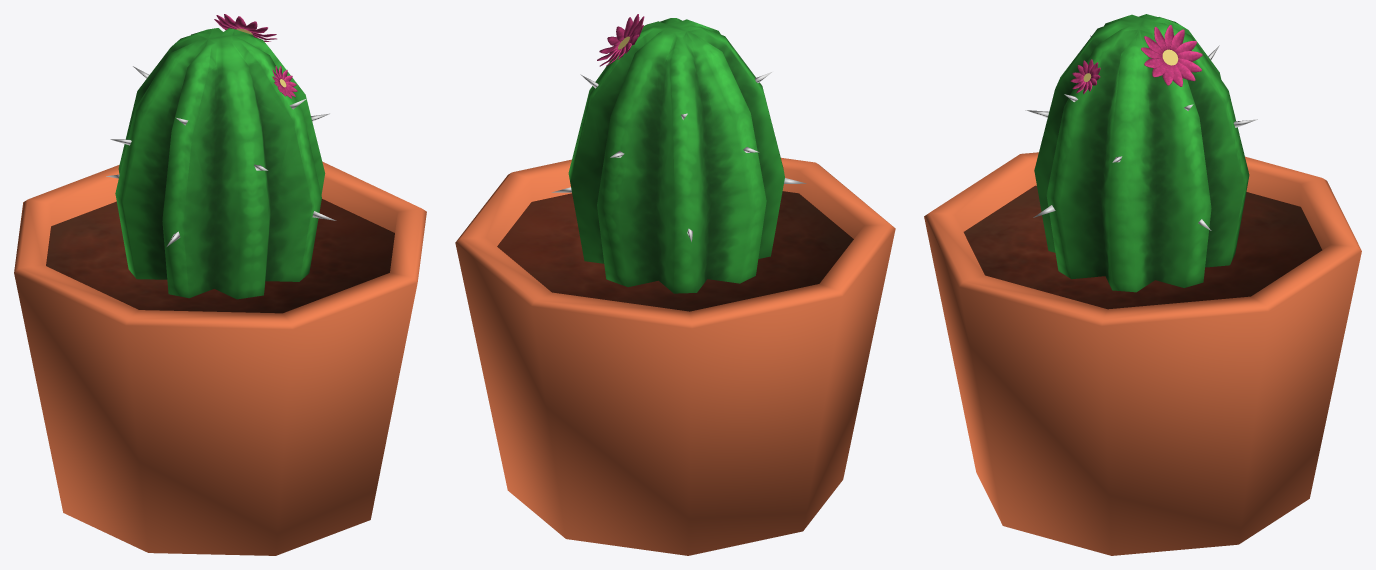
Rendered from cactus.glb.
3 renders of one model, left to right at view 1: azimuth 30°, elevation 25°; view 2: azimuth 150°, elevation 25°; view 3: azimuth 270°, elevation 25°, orthographic.
Visible parts, largest first — view 1: Cylinder.018, Cone; view 2: Cylinder.018; view 3: Cylinder.018, Cone.
Boxes of the visible parts, x1,y1,x2,y2 form: Cylinder.018: (14, 14, 426, 555); Cone: (106, 66, 336, 246); Cylinder.018: (455, 14, 895, 555); Cylinder.018: (924, 14, 1361, 555); Cone: (1025, 35, 1257, 230).
Size of the model in its own units: 2.31 by 2.74 by 2.31.
6 materials, 3 textured.
